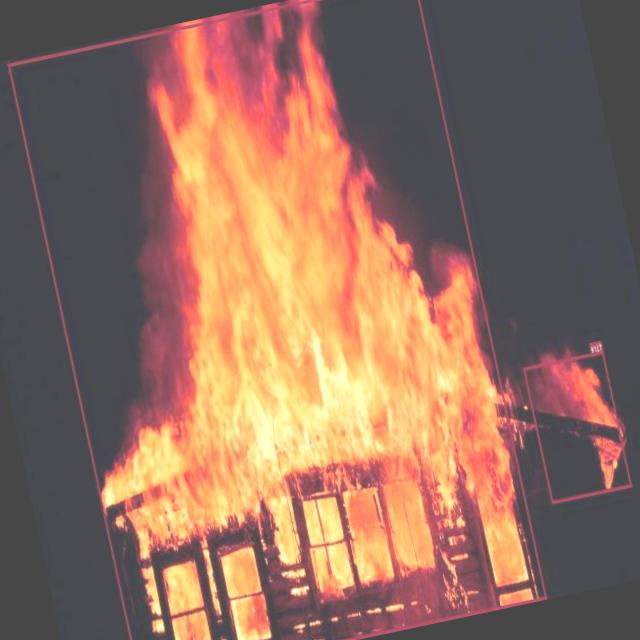fire: (7, 0, 546, 640), (523, 350, 632, 502)
